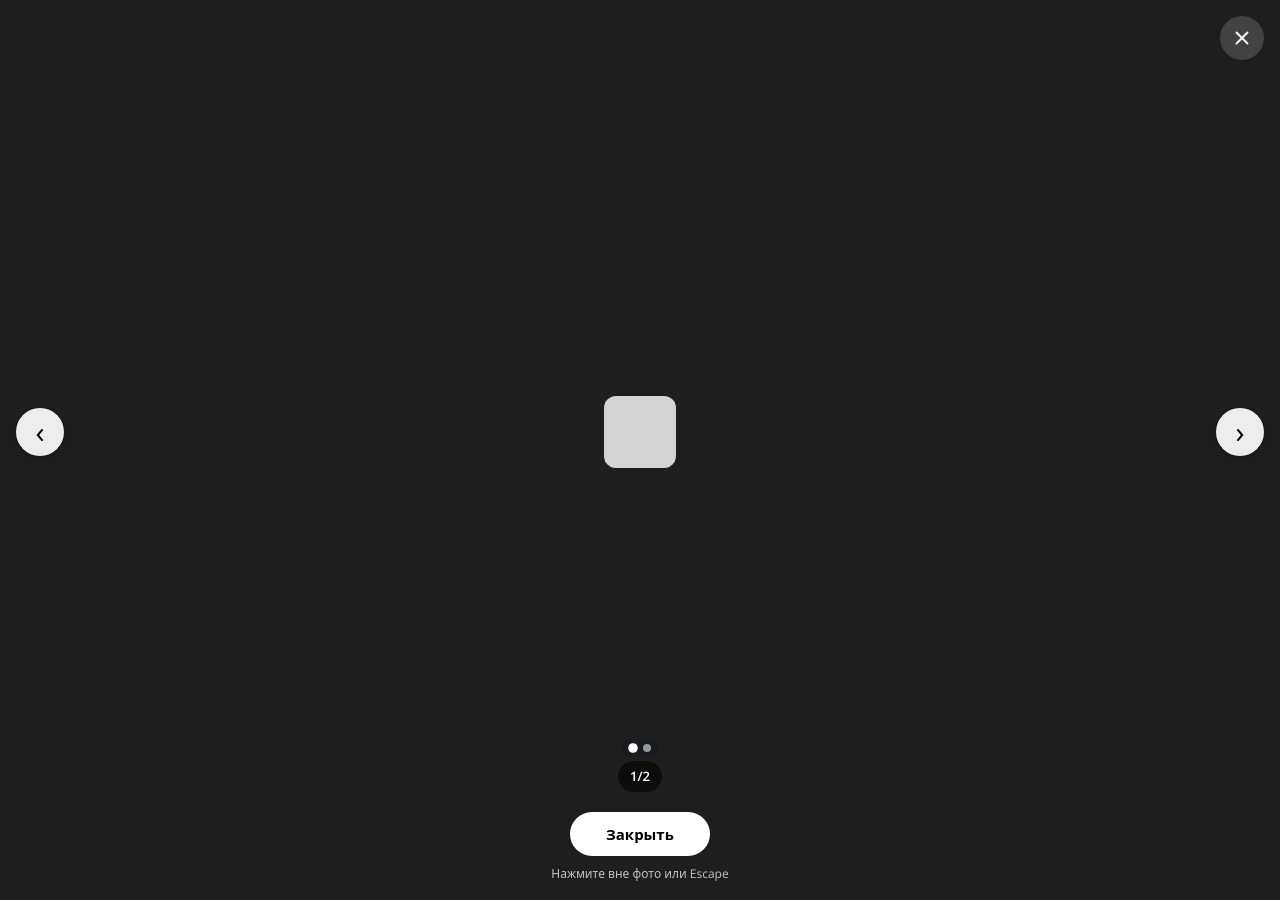
Test: ListingPhotoLightbox › switches photo with next button
The width and height of the screenshot is (1280, 900).
Step 1. Click the button "›" → coordinates (1240, 432), box [1216, 408, 1264, 456]
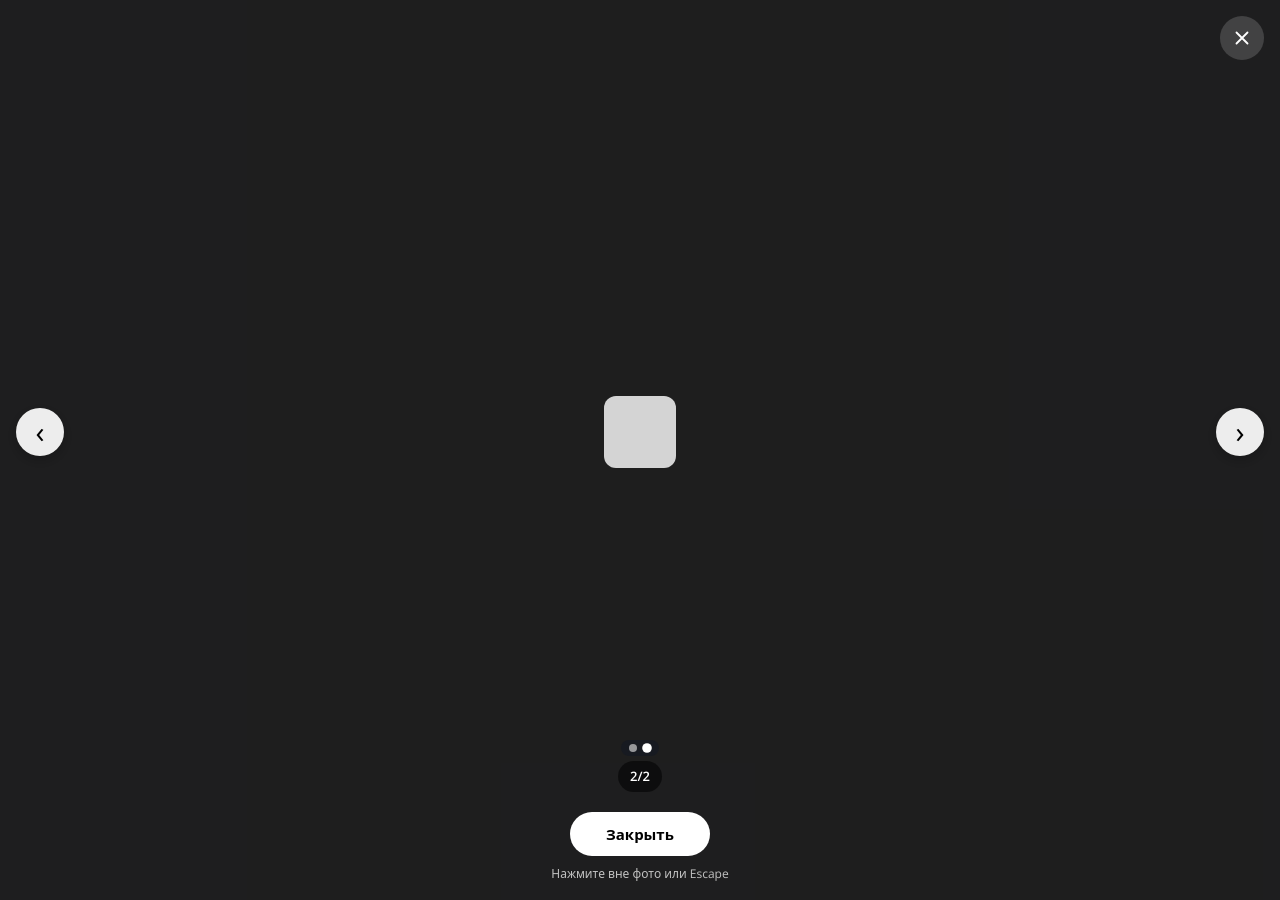
Expected: the text "2/2" is shown, [618, 760, 662, 792]
